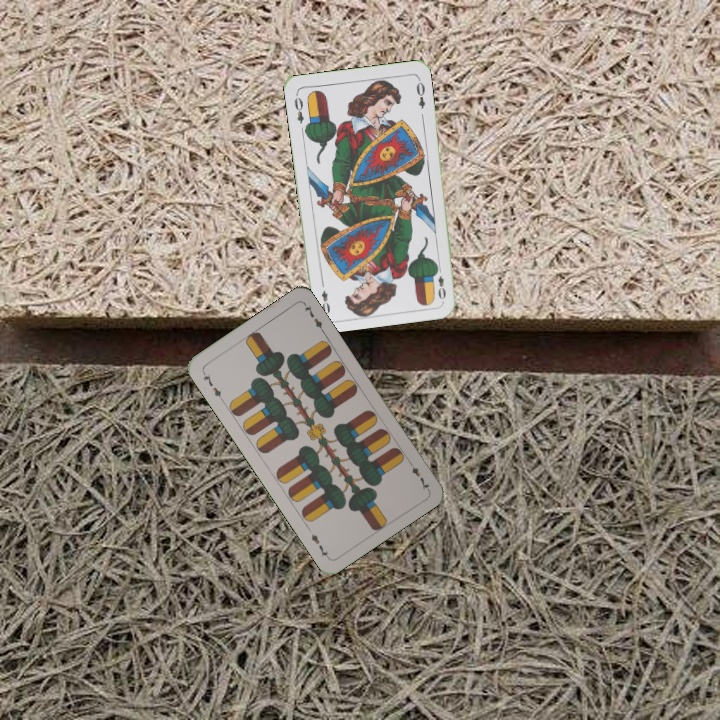E7: (198, 368, 226, 404), (404, 456, 432, 492)
EO: (432, 262, 448, 302), (290, 90, 306, 126)
